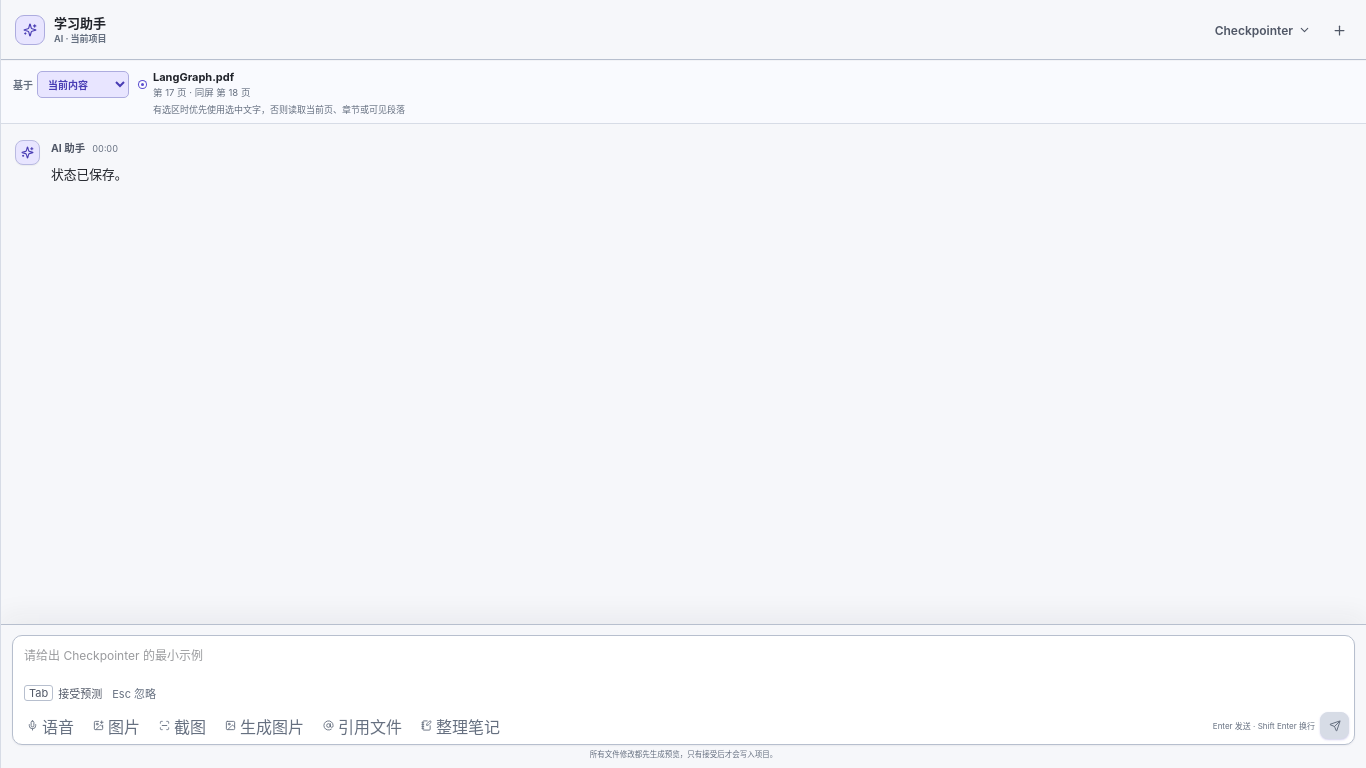
Test case: AiWorkspace › completes a matching prefix and keeps a different draft untouched
The width and height of the screenshot is (1366, 768).
Type "请给出" into the text box named "向 AI 提问" at [684, 659], box [13,636,1354,682]
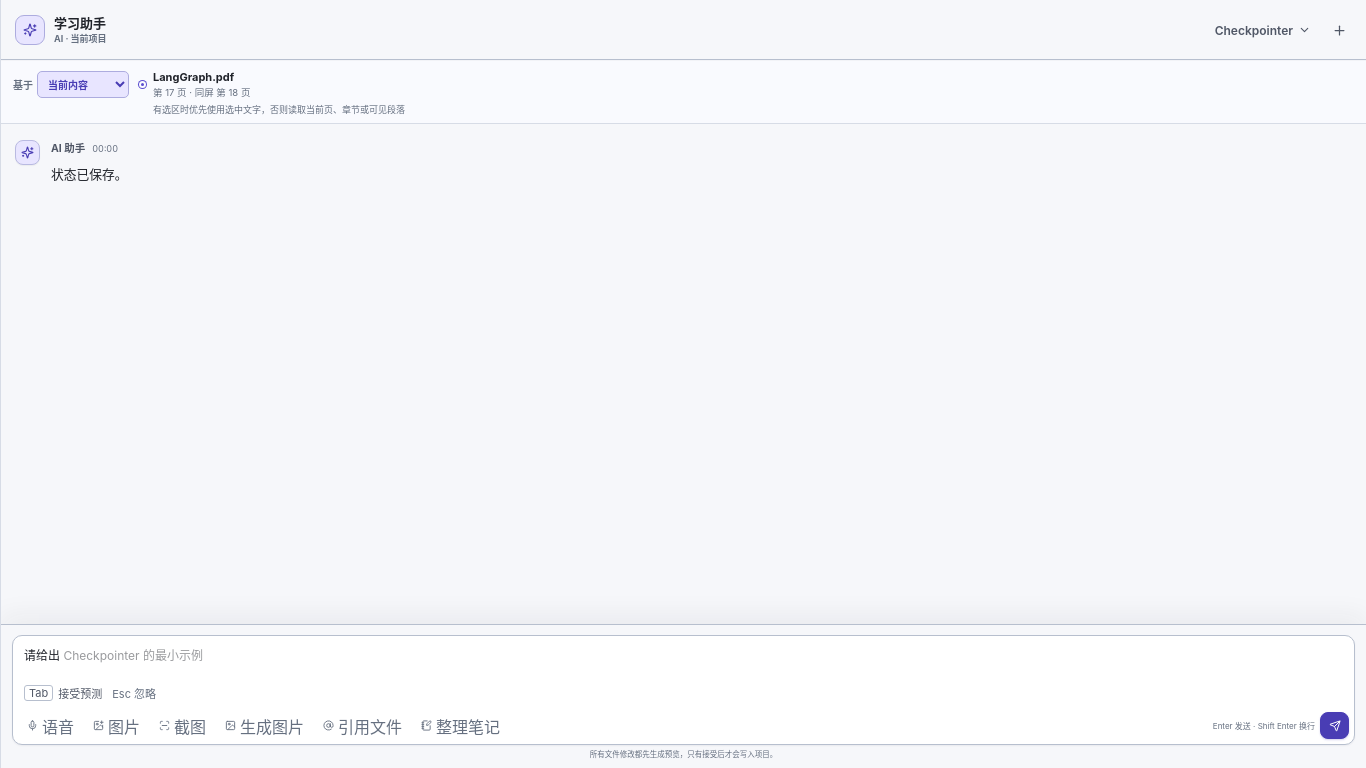
Expected: the button with aria-label "接受下一次请求预测" is shown, [24,682,102,704]
Replace the text in the text box named "向 AI 提问" with "我想先问别的" at [684, 659], box [13,636,1354,682]
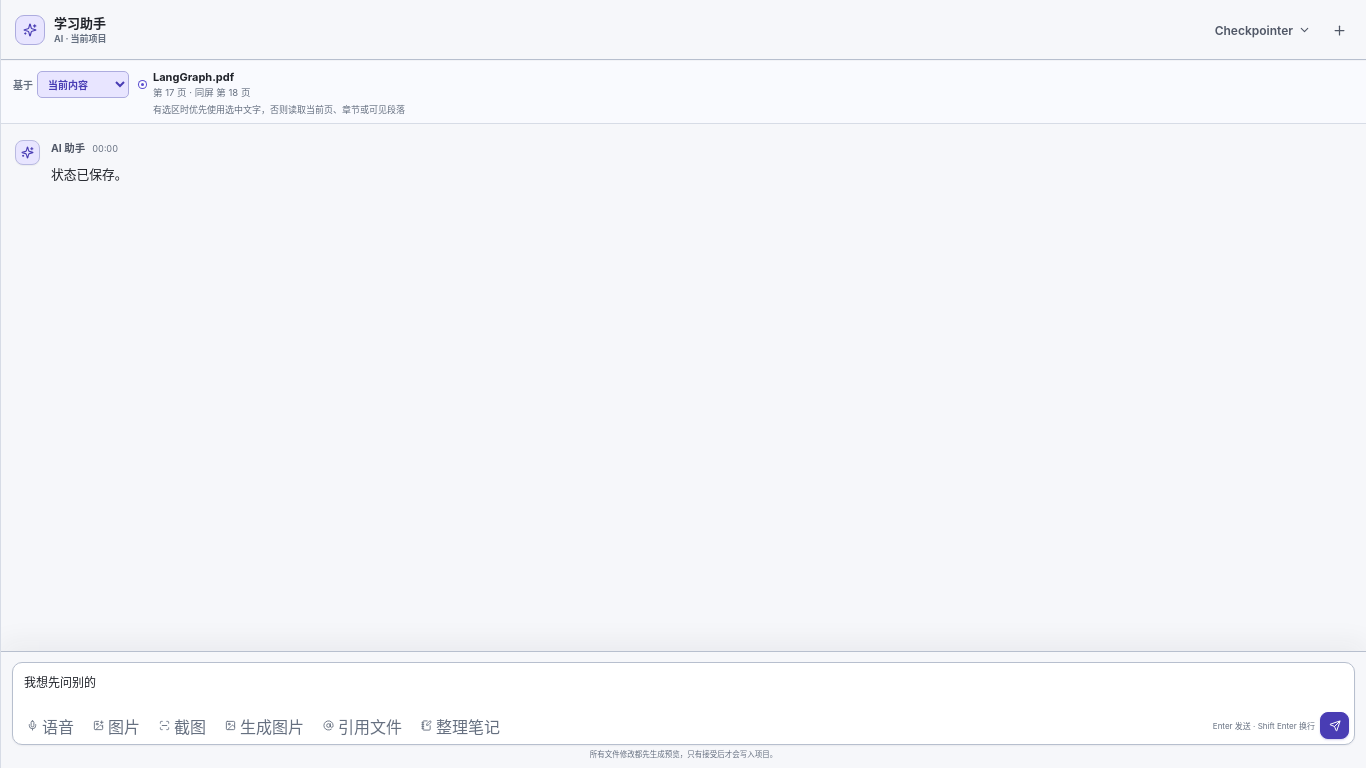
Expected: the button "接受下一次请求预测" is gone
Press Tab in the text box named "向 AI 提问", box [13,663,1354,709]
Replace the text in the text box named "向 AI 提问" with "请给出" at [684, 686], box [13,663,1354,709]
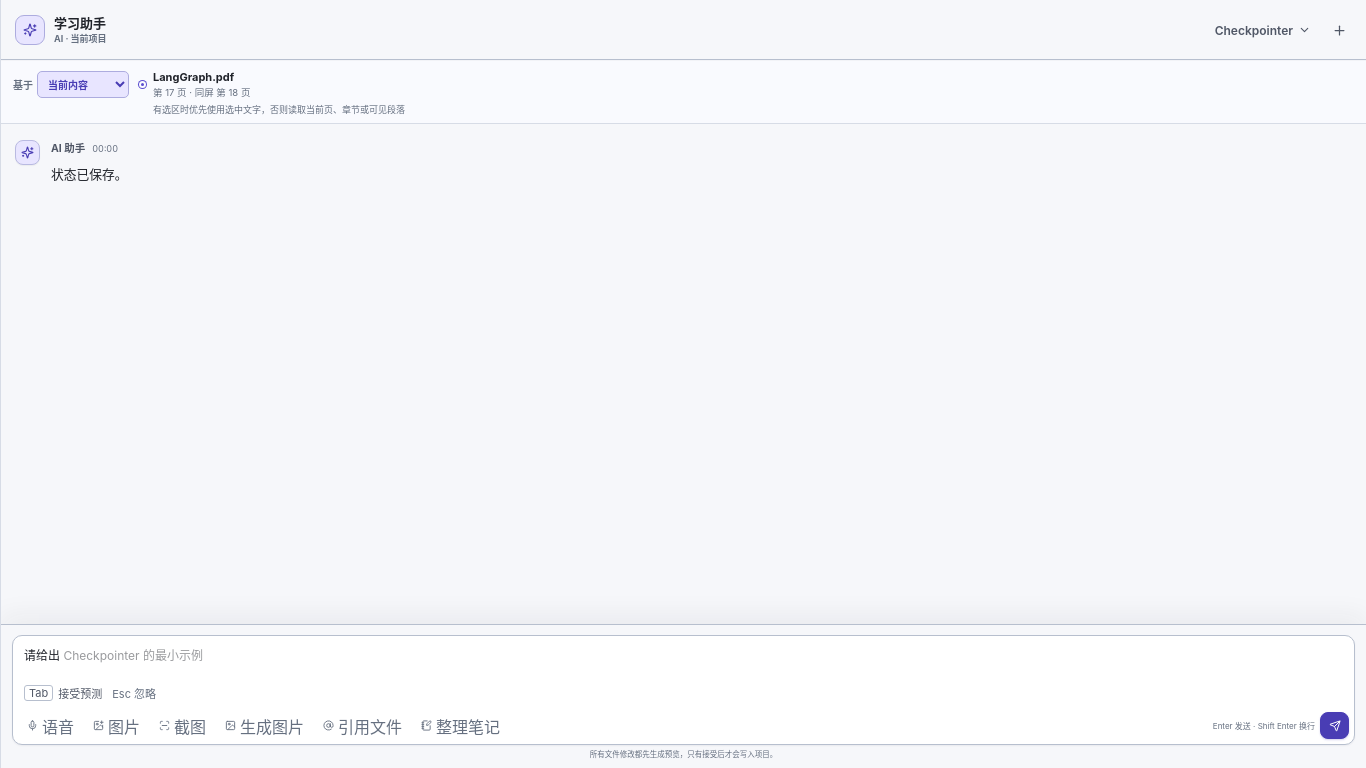
Press Tab in the text box named "向 AI 提问", box [13,636,1354,682]
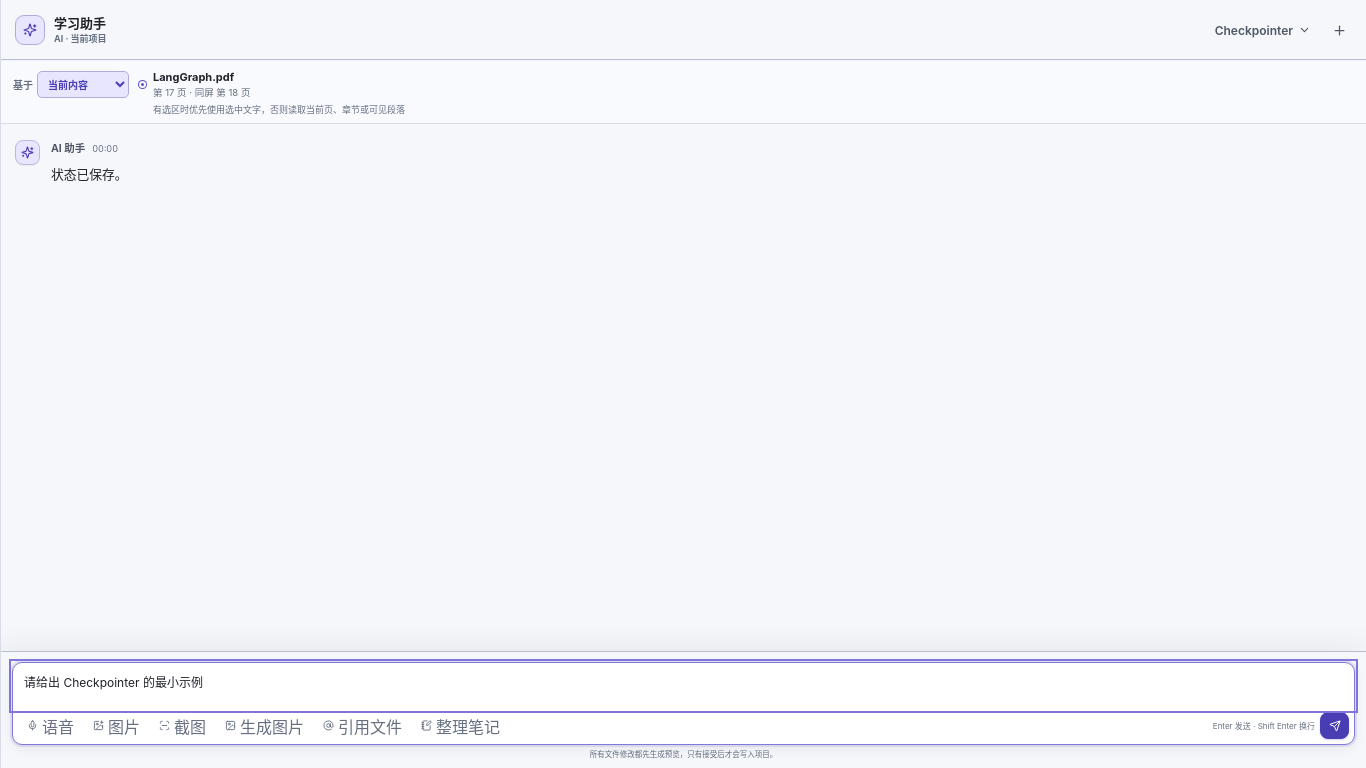
Expected: the text box named "向 AI 提问" holds "请给出 Checkpointer 的最小示例", [13,663,1354,709]
